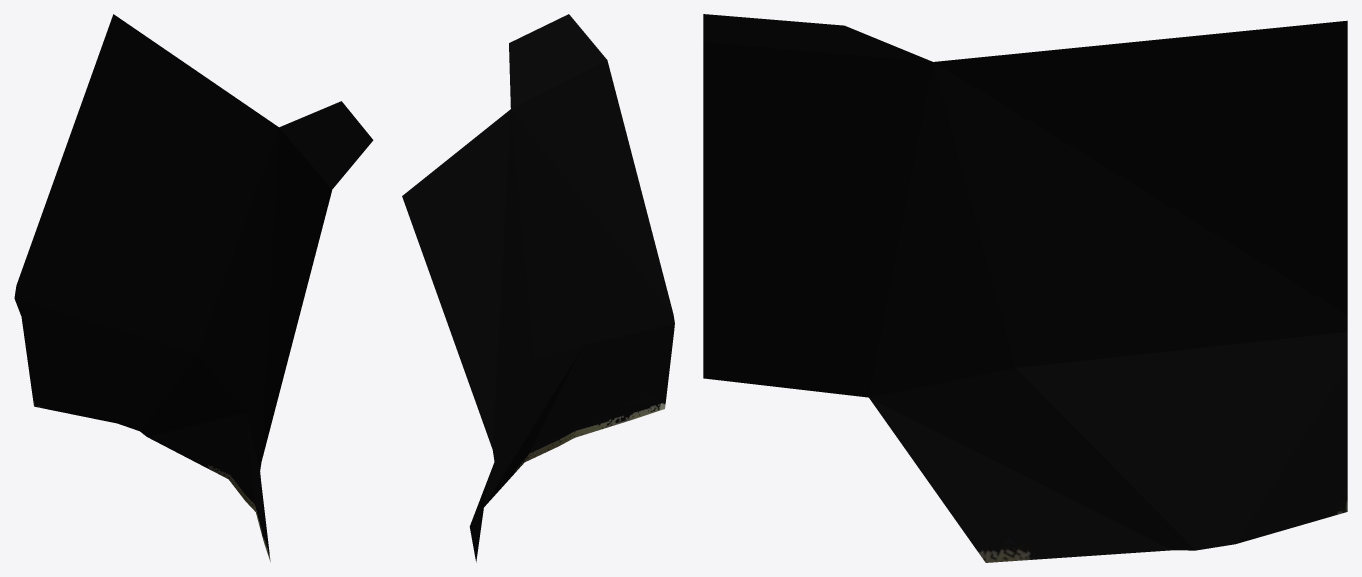
3 views of the same model, side by side, from view 1: azimuth 30°, elevation 25°; view 2: azimuth 150°, elevation 25°; view 3: azimuth 270°, elevation 25° (orthographic). The views are drawn at different scales.
Size of the model in its own units: 2.42 by 5.9 by 5.9.
2 materials, 2 textured.
